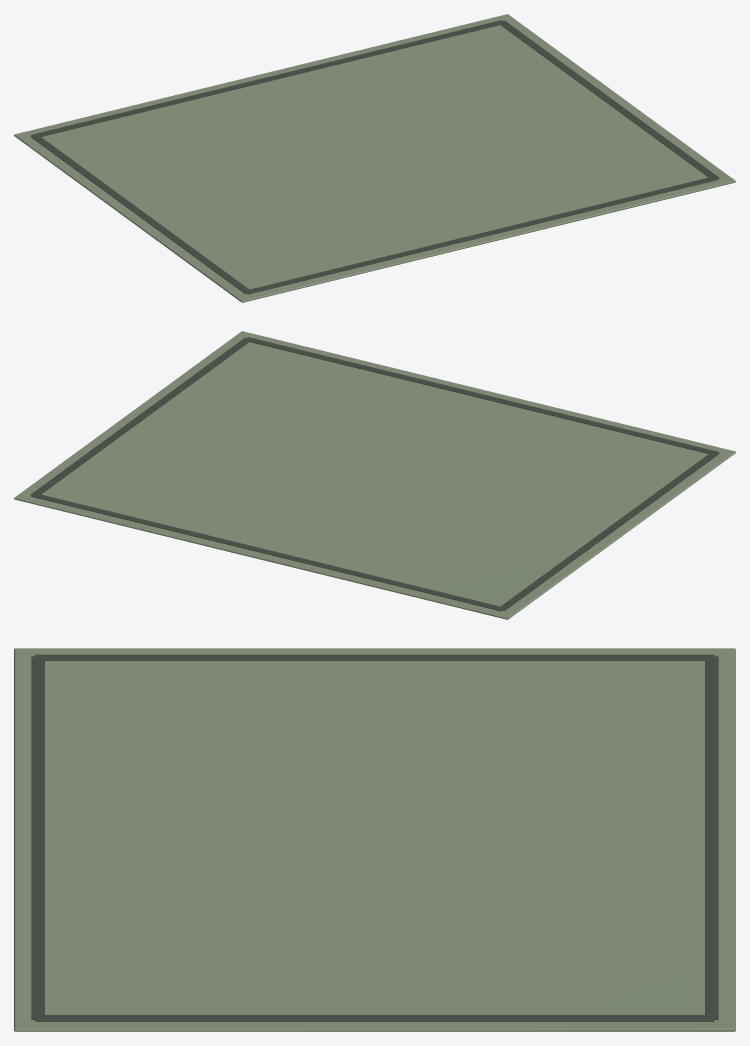
The model's file is floor-decor.glb.
3 renders of one model, top to bottom at view 1: azimuth 30°, elevation 25°; view 2: azimuth 150°, elevation 25°; view 3: azimuth 270°, elevation 25°, orthographic. The views are drawn at different scales.
Parts seen in each view (by area): view 1: japanese-game-cafe floor-decor; view 2: japanese-game-cafe floor-decor; view 3: japanese-game-cafe floor-decor.
Boxes of the visible parts, x1,y1,x2,y2 form: japanese-game-cafe floor-decor: (14, 14, 735, 302); japanese-game-cafe floor-decor: (14, 331, 735, 619); japanese-game-cafe floor-decor: (14, 648, 735, 1031).
Bounding box in the file's own units: 5.25 × 0.0245 × 4.2.
